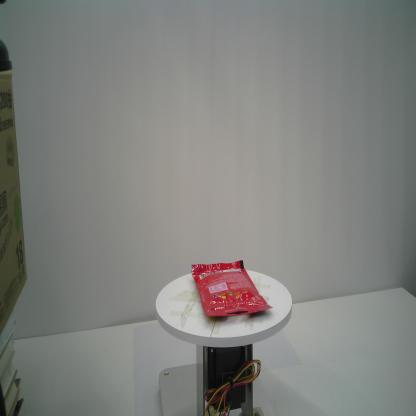Candy: (191, 260, 273, 317)
